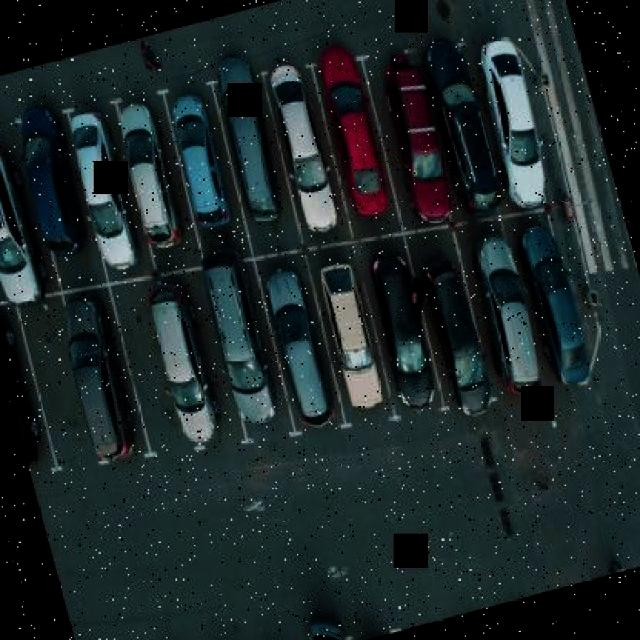empty: (18, 296, 107, 476), (108, 282, 190, 466)
occupied: (455, 9, 586, 218), (298, 33, 421, 246), (355, 32, 476, 241), (402, 23, 521, 230), (249, 31, 360, 250), (195, 41, 303, 244), (454, 222, 558, 428), (514, 209, 615, 413), (200, 250, 299, 454), (310, 243, 408, 445), (251, 246, 347, 448), (406, 238, 504, 424), (0, 92, 95, 283), (142, 266, 234, 462), (54, 97, 148, 286), (56, 285, 149, 474), (358, 242, 446, 437), (104, 89, 194, 269), (157, 83, 250, 245), (0, 307, 62, 484), (0, 117, 51, 315)
